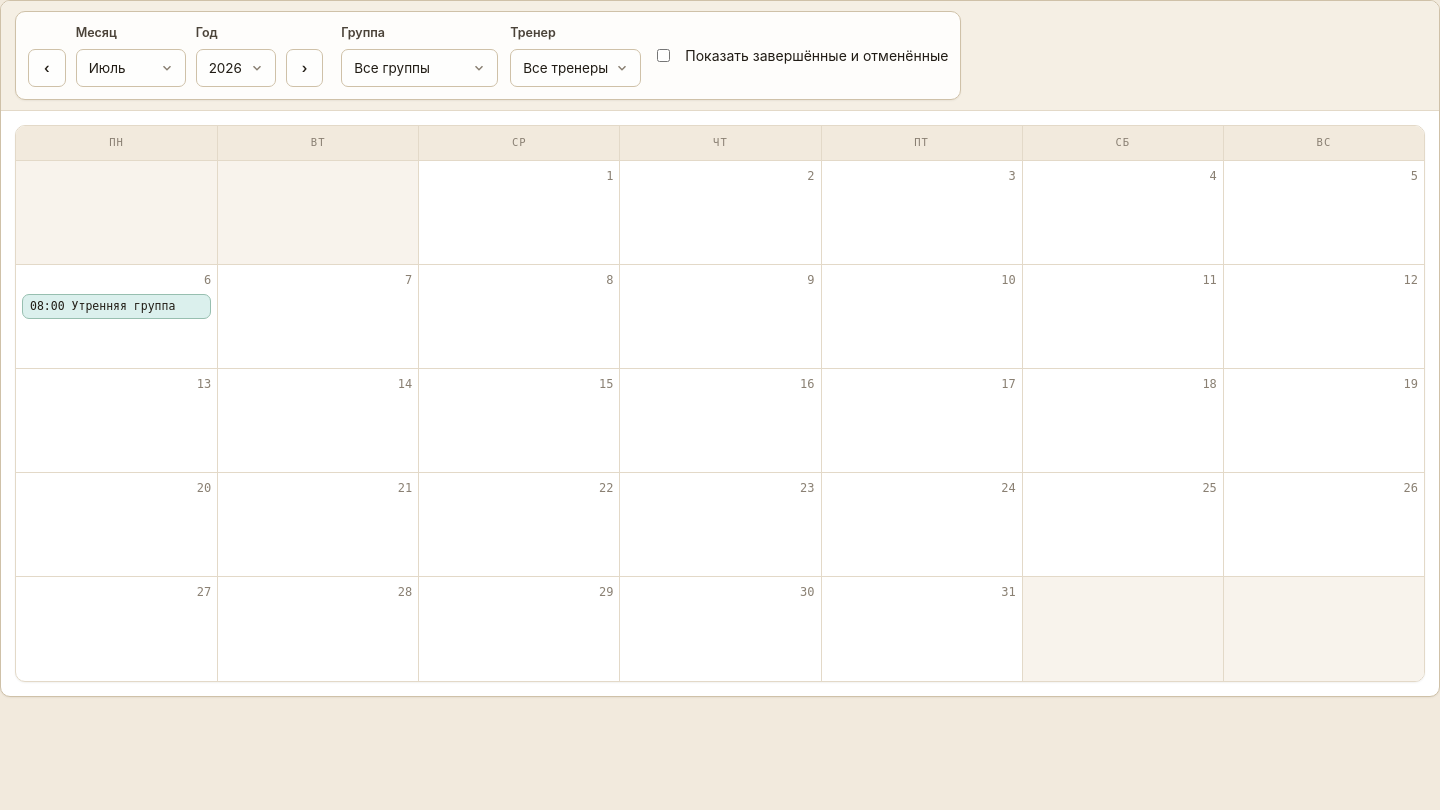
Test: TrainingsCalendar › shows a dash for a court-less training in the detail popup
What coordinates should you click on to do the following:
click the button with aria-label "2026-07-06 08:00–09:30"
I would click on:
 (117, 306)
Its box is x1=22 y1=294 x2=211 y2=319.
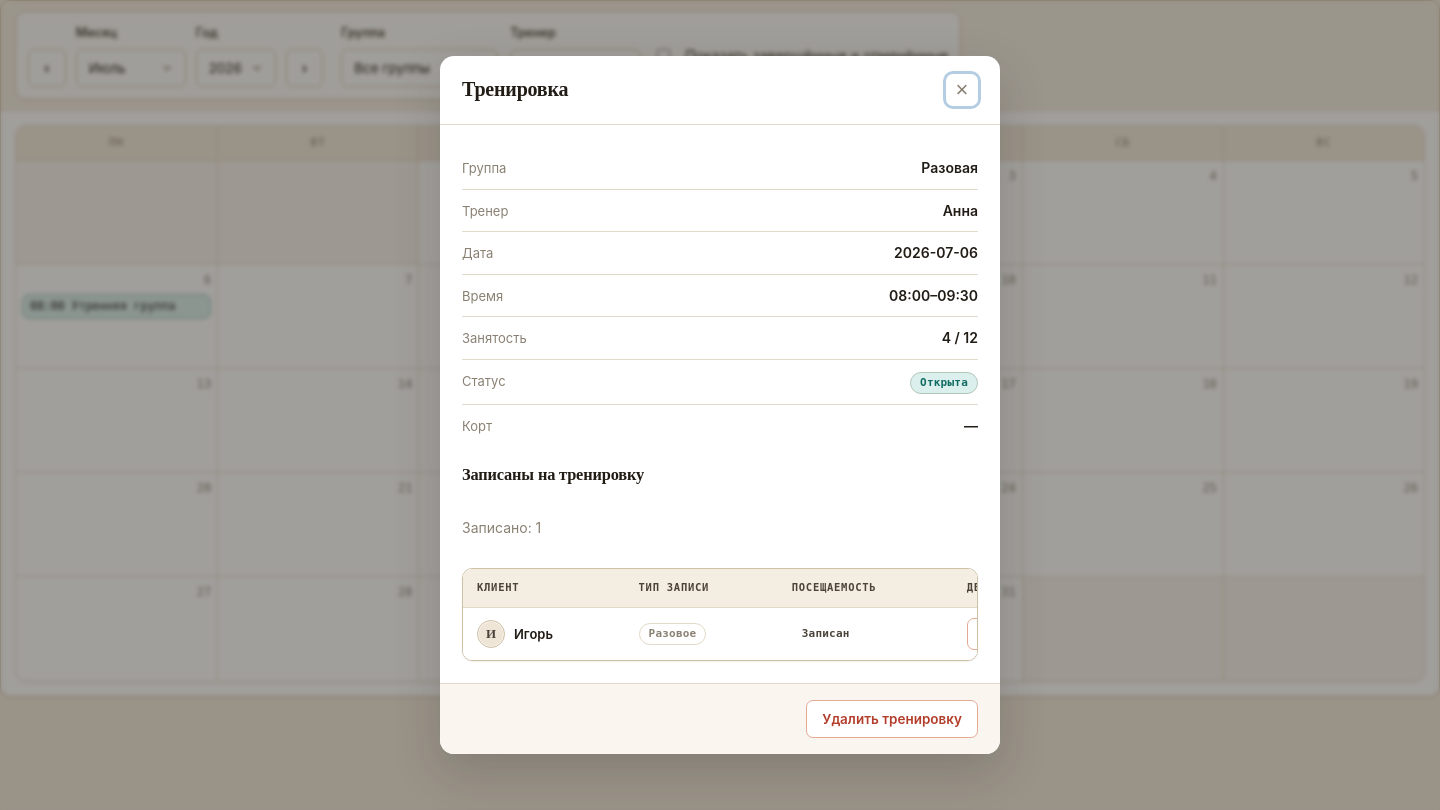
Result: the text "—" is shown at x1=964 y1=415 x2=978 y2=436
Result: the text "Разовая" is shown at x1=921 y1=157 x2=978 y2=178
